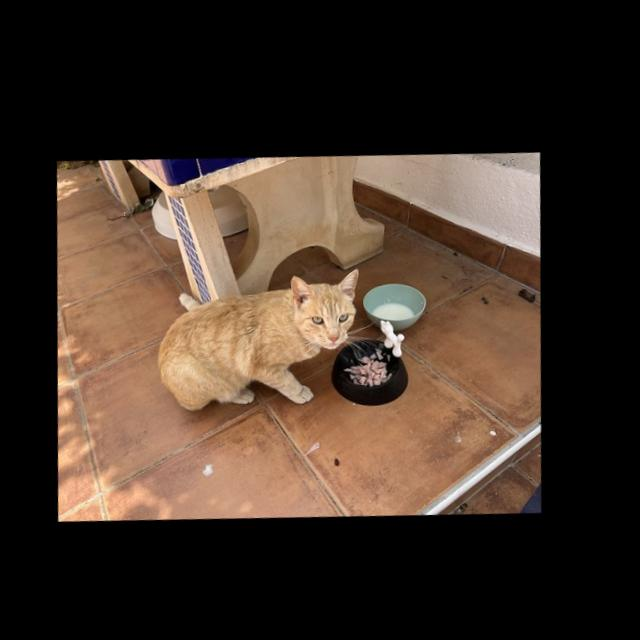animals: (154, 257, 372, 418)
